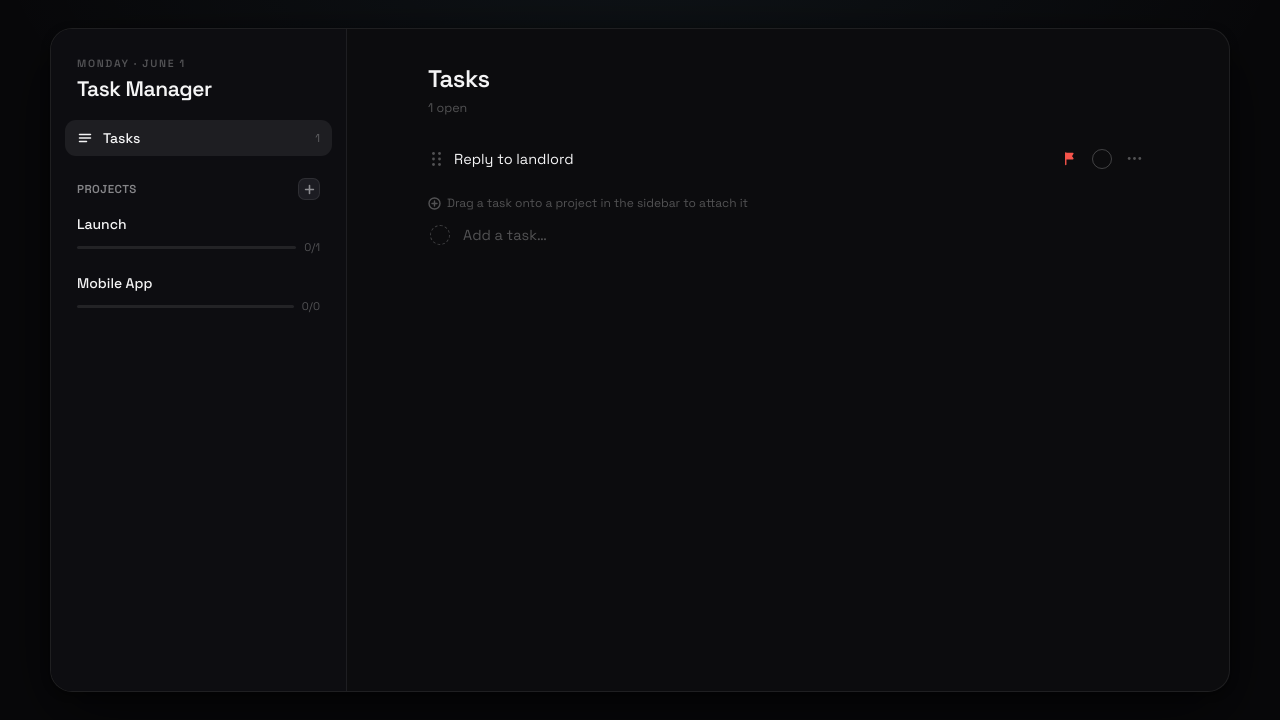
it: App (integration) › deletes a loose task only after a two-tap confirm
The image size is (1280, 720).
Check: the text "Reply to landlord" is shown, box [454,150,574,168]
Click the button named "task options". click: {"x": 1134, "y": 158}
box: [1123,147,1146,170]
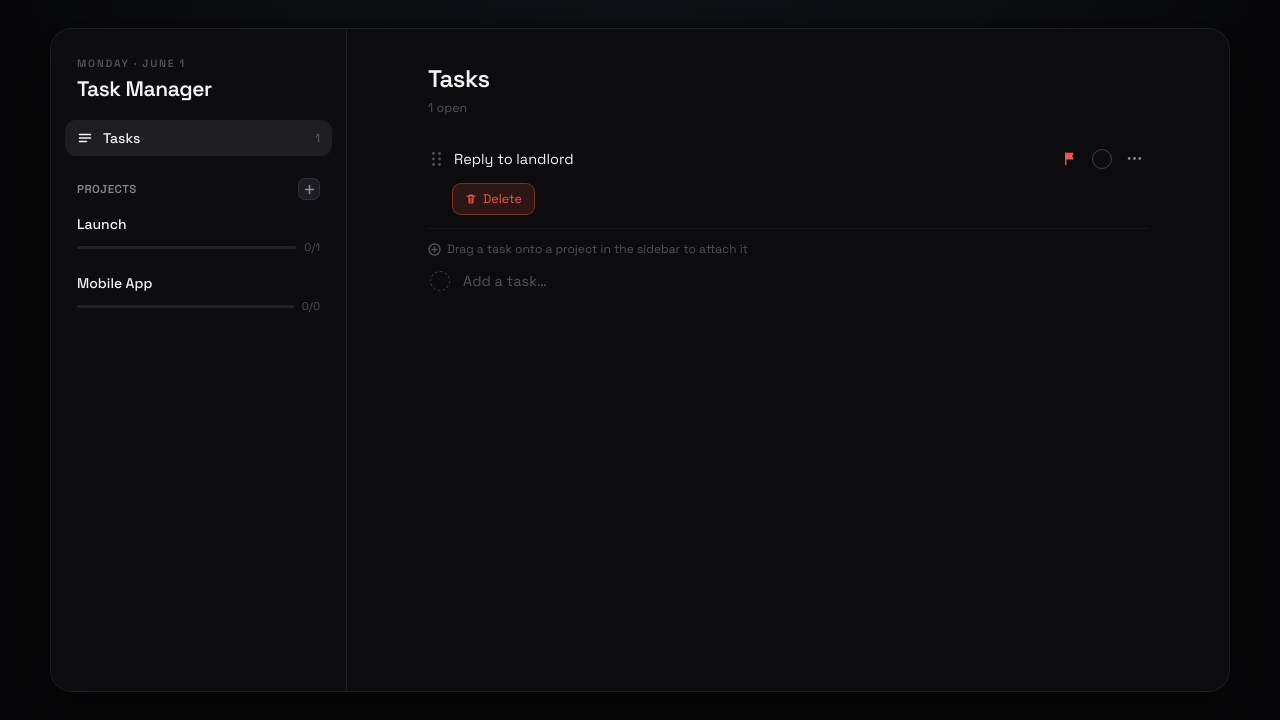
Click the button "Delete". click: {"x": 493, "y": 199}
box: [452,183,535,215]
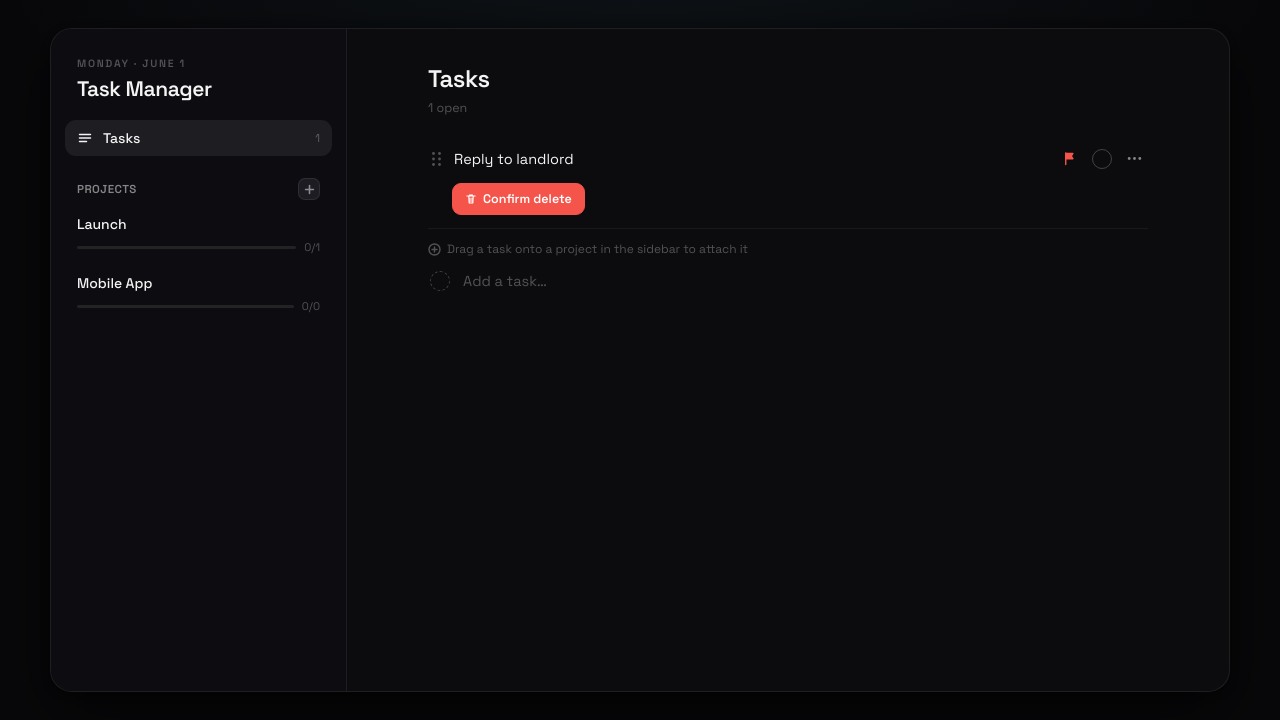
Check: the text "Reply to landlord" is shown, box [454,150,574,168]
Click the button "Confirm delete". click: {"x": 518, "y": 199}
box: [452,183,585,215]
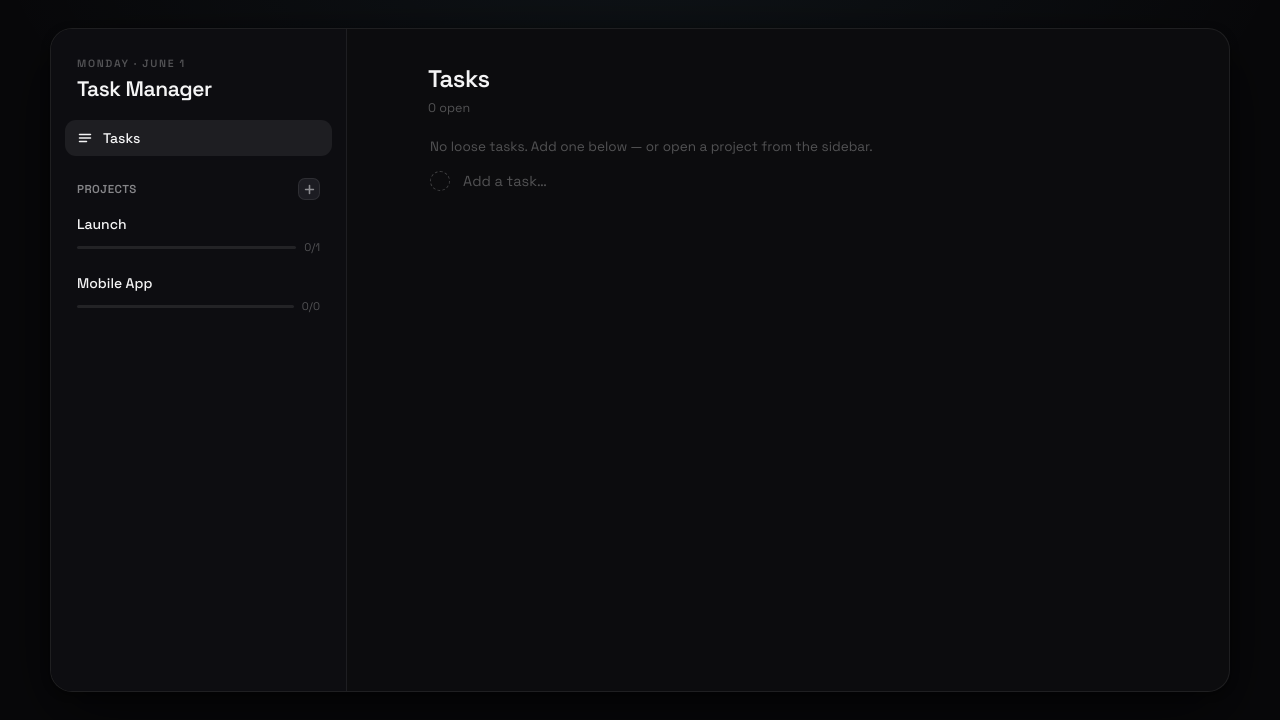
Check: the text "Reply to landlord" is gone
